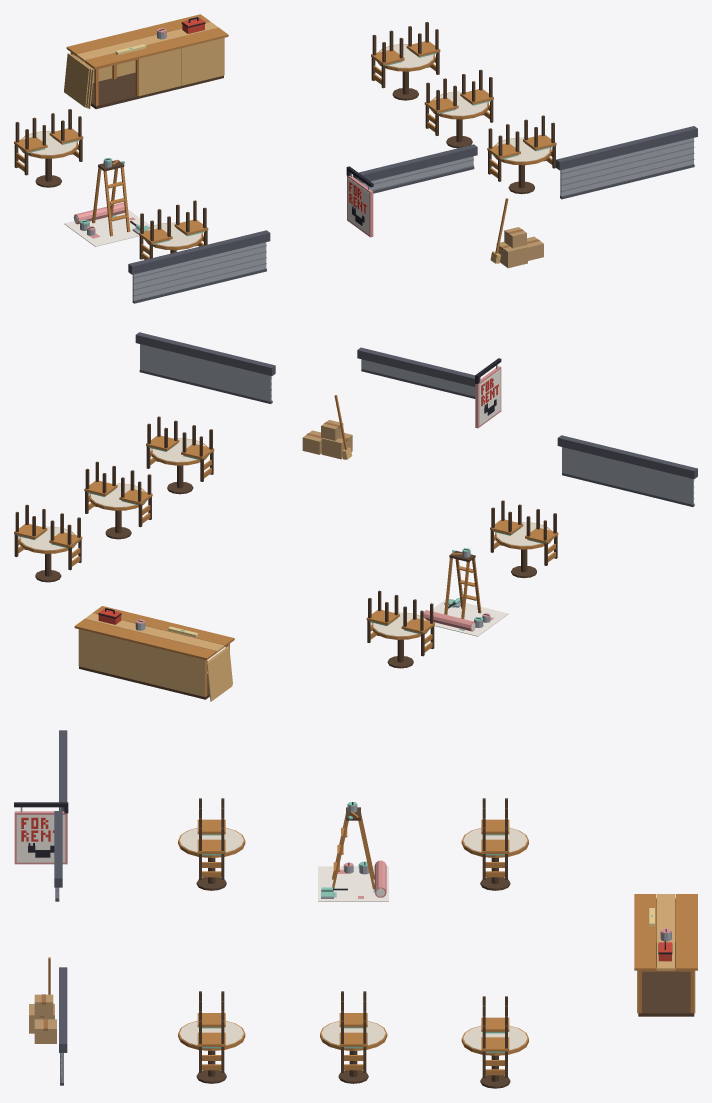
File: CatCafe_Plot_ForRent.fbx
3 views of the same model, one above another, from view 1: azimuth 30°, elevation 25°; view 2: azimuth 150°, elevation 25°; view 3: azimuth 270°, elevation 25° (orthographic). The views are drawn at different scales.
Visible parts, largest first — view 1: CatCafe_Plot_ForRent, CatCafe_Plot_ForRent_Shutter, CatCafe_Plot_ForRent_Sign; view 2: CatCafe_Plot_ForRent, CatCafe_Plot_ForRent_Shutter, CatCafe_Plot_ForRent_Sign; view 3: CatCafe_Plot_ForRent, CatCafe_Plot_ForRent_Sign.
Part boxes in pixels (x1,y1,x2,y2): CatCafe_Plot_ForRent: (14,14,697,274); CatCafe_Plot_ForRent_Shutter: (132,138,694,303); CatCafe_Plot_ForRent_Sign: (347,178,369,234); CatCafe_Plot_ForRent: (14,332,697,701); CatCafe_Plot_ForRent_Shutter: (139,344,694,506); CatCafe_Plot_ForRent_Sign: (479,369,500,425); CatCafe_Plot_ForRent: (14,730,697,1088); CatCafe_Plot_ForRent_Sign: (16,815,65,862).
Bounding box in the file's own units: 39.7 × 8.45 × 36.6.
Materials: 1 (1 with a texture image).
